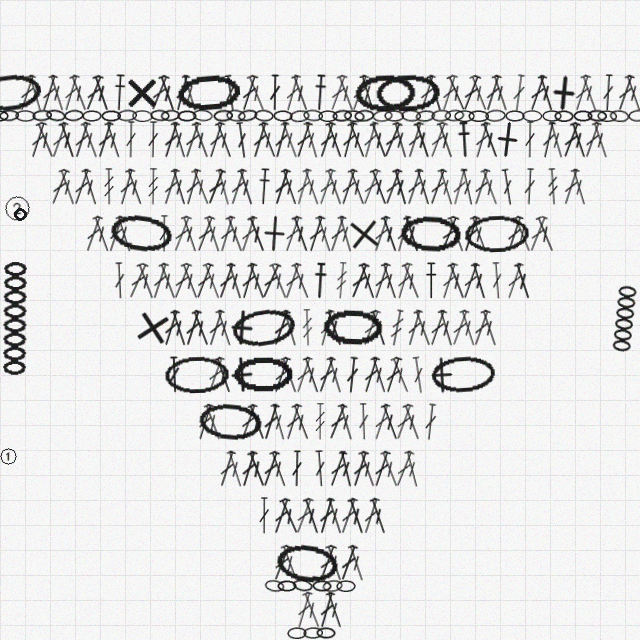chain: (230, 305, 297, 351), (108, 211, 175, 256), (274, 541, 341, 585), (197, 401, 264, 443), (430, 354, 497, 395), (176, 72, 241, 114), (399, 214, 463, 254), (164, 355, 229, 394), (464, 214, 529, 253), (375, 73, 440, 112), (354, 73, 417, 112), (322, 308, 384, 347), (233, 356, 294, 393), (0, 71, 43, 115), (292, 578, 313, 593), (45, 108, 66, 123), (237, 108, 258, 123), (343, 109, 365, 123), (264, 579, 285, 593), (322, 579, 343, 593), (289, 109, 310, 123), (372, 109, 393, 123), (415, 109, 436, 123), (609, 109, 630, 123), (160, 109, 181, 122), (192, 109, 213, 122), (444, 109, 465, 122), (485, 109, 506, 122), (32, 109, 52, 122), (64, 109, 84, 122), (117, 109, 137, 122), (150, 109, 170, 122), (213, 109, 233, 122), (226, 109, 246, 122), (254, 109, 274, 122), (303, 109, 323, 122), (332, 109, 352, 122), (354, 109, 374, 122), (401, 109, 421, 122), (431, 109, 451, 122), (587, 109, 607, 122), (15, 110, 36, 122), (132, 110, 153, 122), (454, 110, 475, 122), (468, 110, 489, 122), (0, 109, 19, 122), (287, 627, 307, 639), (303, 627, 323, 639), (316, 627, 336, 639), (277, 580, 297, 592), (312, 580, 332, 592), (336, 580, 356, 592), (82, 110, 102, 122), (101, 110, 121, 122), (177, 110, 197, 122), (273, 110, 293, 122), (318, 110, 338, 122), (384, 110, 404, 122), (505, 110, 525, 122), (522, 110, 542, 122), (542, 110, 562, 122), (554, 110, 574, 122), (573, 110, 593, 122), (597, 110, 617, 122), (628, 109, 640, 122), (0, 110, 9, 122)
double: (125, 262, 151, 300), (258, 262, 284, 300), (277, 497, 302, 535), (325, 403, 350, 441), (388, 356, 413, 394), (347, 262, 372, 300), (399, 262, 424, 300), (510, 215, 535, 253), (533, 215, 558, 253), (47, 168, 72, 206), (33, 121, 58, 159), (380, 121, 405, 159), (147, 74, 172, 112), (244, 74, 269, 112), (444, 74, 469, 112), (300, 591, 324, 629), (270, 544, 294, 582), (278, 544, 302, 582), (315, 544, 339, 582), (292, 497, 316, 535), (245, 450, 269, 488), (378, 450, 402, 488), (392, 450, 416, 488), (201, 403, 225, 441), (245, 403, 269, 441), (289, 403, 313, 441), (378, 403, 402, 441), (392, 403, 416, 441), (400, 403, 424, 441), (189, 309, 213, 347), (359, 309, 383, 347), (411, 309, 435, 347), (448, 309, 472, 347), (134, 262, 158, 300), (156, 262, 180, 300), (170, 262, 194, 300), (178, 262, 202, 300), (192, 262, 216, 300), (200, 262, 224, 300), (245, 262, 269, 300), (267, 262, 291, 300), (289, 262, 313, 300), (445, 262, 469, 300), (170, 215, 194, 253), (193, 215, 217, 253), (223, 215, 247, 253), (245, 215, 269, 253), (437, 215, 461, 253), (467, 215, 491, 253), (526, 215, 550, 253), (189, 168, 213, 206), (204, 168, 228, 206), (345, 168, 369, 206), (359, 168, 383, 206), (367, 168, 391, 206), (381, 168, 405, 206), (478, 168, 502, 206), (78, 121, 102, 159), (189, 121, 213, 159), (212, 121, 236, 159), (256, 121, 280, 159), (278, 121, 302, 159), (345, 121, 369, 159), (367, 121, 391, 159), (426, 121, 450, 159), (478, 121, 502, 159), (559, 121, 583, 159), (67, 74, 91, 112), (82, 74, 106, 112), (326, 74, 350, 112), (334, 74, 358, 112), (459, 74, 483, 112), (467, 74, 491, 112), (323, 591, 346, 629), (323, 544, 346, 582), (337, 544, 360, 582), (345, 544, 368, 582), (270, 497, 293, 535), (300, 497, 323, 535), (337, 497, 360, 535), (345, 497, 368, 535), (367, 497, 390, 535), (259, 450, 282, 488), (267, 450, 290, 488), (326, 450, 349, 488), (356, 450, 379, 488), (370, 450, 393, 488), (237, 403, 260, 441), (370, 403, 393, 441), (204, 356, 227, 394), (212, 356, 235, 394), (270, 356, 293, 394), (278, 356, 301, 394), (292, 356, 315, 394), (300, 356, 323, 394), (315, 356, 338, 394), (270, 309, 293, 347), (323, 309, 346, 347), (367, 309, 390, 347), (426, 309, 449, 347), (470, 309, 493, 347), (478, 309, 501, 347), (215, 262, 238, 300), (281, 262, 304, 300), (356, 262, 379, 300), (370, 262, 393, 300), (378, 262, 401, 300), (459, 262, 482, 300), (503, 262, 526, 300), (82, 215, 105, 253), (90, 215, 113, 253), (178, 215, 201, 253), (237, 215, 260, 253), (281, 215, 304, 253), (289, 215, 312, 253), (326, 215, 349, 253), (370, 215, 393, 253), (378, 215, 401, 253), (445, 215, 468, 253), (503, 215, 526, 253), (56, 168, 79, 206), (70, 168, 93, 206), (123, 168, 146, 206), (278, 168, 301, 206), (300, 168, 323, 206), (315, 168, 338, 206), (323, 168, 346, 206), (337, 168, 360, 206), (403, 168, 426, 206), (426, 168, 449, 206), (470, 168, 493, 206), (48, 121, 71, 159), (56, 121, 79, 159), (181, 121, 204, 159), (292, 121, 315, 159), (323, 121, 346, 159), (411, 121, 434, 159), (434, 121, 457, 159), (567, 121, 590, 159), (581, 121, 604, 159), (589, 121, 612, 159), (90, 74, 113, 112), (156, 74, 179, 112), (289, 74, 312, 112), (348, 74, 371, 112), (489, 74, 512, 112), (526, 74, 549, 112), (578, 74, 601, 112), (614, 74, 637, 112), (293, 591, 315, 629), (324, 497, 346, 535), (360, 497, 382, 535), (216, 450, 238, 488), (224, 450, 246, 488), (238, 450, 260, 488), (349, 450, 371, 488), (194, 403, 216, 441), (260, 403, 282, 441), (282, 403, 304, 441), (335, 403, 357, 441), (324, 356, 346, 394), (360, 356, 382, 394), (368, 356, 390, 394), (382, 356, 404, 394), (160, 309, 182, 347), (168, 309, 190, 347), (182, 309, 204, 347), (205, 309, 227, 347), (213, 309, 235, 347), (279, 309, 301, 347), (435, 309, 457, 347), (457, 309, 479, 347), (149, 262, 171, 300), (224, 262, 246, 300), (393, 262, 415, 300), (438, 262, 460, 300), (468, 262, 490, 300), (512, 262, 534, 300), (105, 215, 127, 253), (113, 215, 135, 253), (202, 215, 224, 253), (216, 215, 238, 253), (305, 215, 327, 253), (313, 215, 335, 253), (401, 215, 423, 253), (460, 215, 482, 253), (79, 168, 101, 206), (160, 168, 182, 206), (168, 168, 190, 206), (227, 168, 249, 206), (235, 168, 257, 206), (271, 168, 293, 206), (412, 168, 434, 206), (435, 168, 457, 206), (560, 168, 582, 206), (568, 168, 590, 206), (27, 121, 49, 159), (71, 121, 93, 159), (94, 121, 116, 159), (102, 121, 124, 159), (160, 121, 182, 159), (168, 121, 190, 159), (205, 121, 227, 159), (249, 121, 271, 159), (316, 121, 338, 159), (404, 121, 426, 159), (471, 121, 493, 159), (16, 74, 38, 112), (24, 74, 46, 112), (38, 74, 60, 112), (46, 74, 68, 112), (60, 74, 82, 112), (179, 74, 201, 112), (238, 74, 260, 112), (416, 74, 438, 112), (424, 74, 446, 112), (438, 74, 460, 112), (482, 74, 504, 112), (535, 74, 557, 112), (571, 74, 593, 112), (316, 591, 337, 629), (316, 497, 337, 535), (268, 403, 289, 441), (316, 309, 337, 347), (404, 309, 425, 347), (238, 262, 259, 300), (335, 215, 356, 253), (393, 215, 414, 253), (116, 168, 137, 206), (182, 168, 203, 206), (213, 168, 234, 206), (293, 168, 314, 206), (390, 168, 411, 206), (449, 168, 470, 206), (271, 121, 292, 159), (301, 121, 322, 159), (360, 121, 381, 159), (390, 121, 411, 159), (546, 121, 567, 159), (282, 74, 303, 112), (357, 74, 378, 112), (336, 450, 356, 488), (402, 450, 422, 488), (339, 121, 359, 159), (172, 74, 192, 112), (458, 168, 477, 206), (539, 121, 558, 159), (622, 74, 640, 112), (410, 356, 427, 394), (499, 168, 516, 206), (222, 74, 239, 112), (234, 121, 250, 159), (511, 74, 527, 112), (423, 403, 438, 441), (345, 356, 360, 394), (313, 450, 327, 487), (490, 262, 504, 299), (601, 74, 615, 111), (357, 403, 370, 440), (168, 356, 181, 393), (113, 262, 126, 299), (523, 168, 536, 205), (258, 497, 270, 534), (291, 450, 303, 487), (158, 215, 170, 252), (125, 121, 137, 158), (147, 121, 159, 158), (524, 121, 536, 158), (269, 74, 281, 111)
enseble_chain: (0, 261, 30, 378), (610, 285, 639, 354)
half_double: (312, 262, 328, 299), (256, 168, 272, 205), (456, 121, 472, 158), (312, 74, 328, 111), (112, 74, 127, 111), (424, 262, 438, 299)
noise: (2, 193, 32, 223), (0, 446, 19, 467), (12, 206, 28, 222)
single: (131, 306, 174, 349), (487, 119, 528, 160), (344, 214, 384, 254), (544, 73, 584, 113), (222, 355, 261, 394), (222, 308, 261, 347), (255, 214, 294, 253), (423, 356, 461, 394), (123, 74, 160, 111)
treble: (388, 309, 406, 347), (334, 262, 349, 299), (546, 168, 560, 205), (301, 309, 314, 346), (314, 403, 326, 440), (103, 168, 115, 205), (147, 168, 159, 205)
